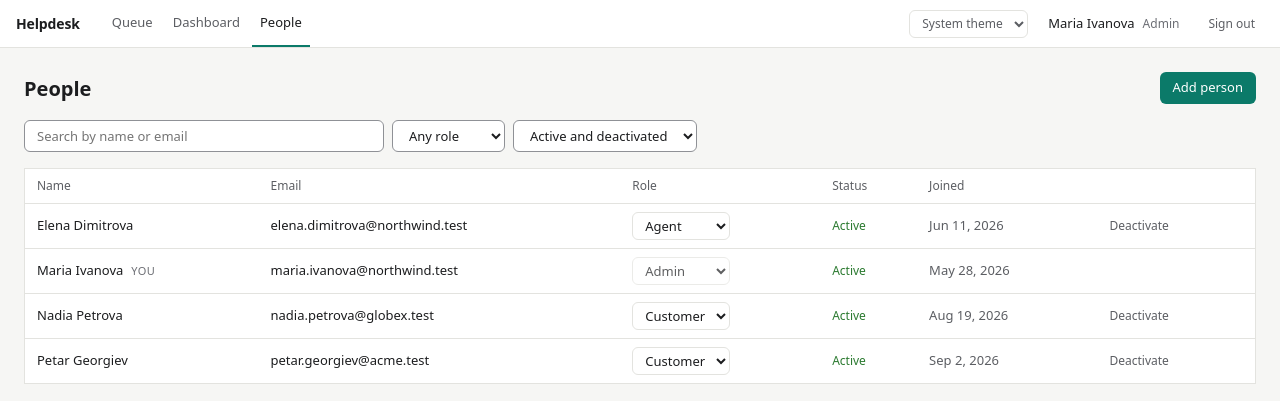
Scenario: the people page › asks before deactivating someone, and can undo it
Expected: the table is shown, left=24, top=168, right=1256, bottom=384
Click the button "Deactivate" in the row of "Elena Dimitrova" at (1139, 226), box left=1100, top=212, right=1178, bottom=240
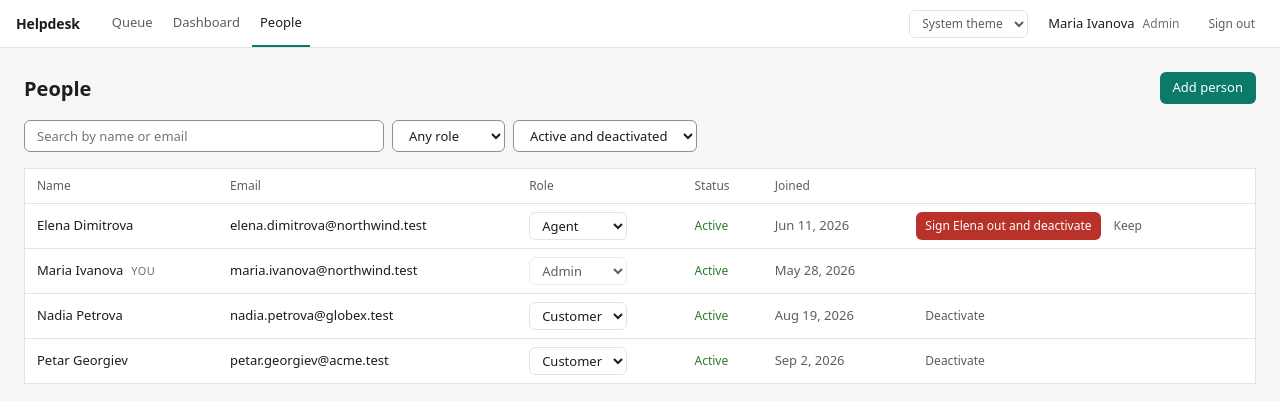
Click the button "Sign Elena out and deactivate" at (1008, 226), box left=916, top=212, right=1101, bottom=240
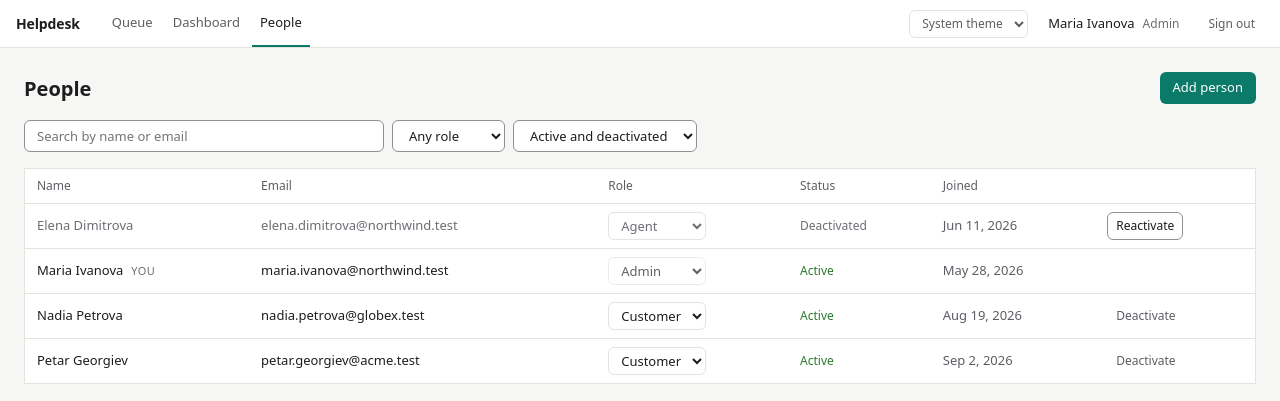
Now the text "Deactivated" is shown, box left=800, top=217, right=867, bottom=234
Click the button "Reactivate" at (1145, 226), box left=1107, top=212, right=1183, bottom=240
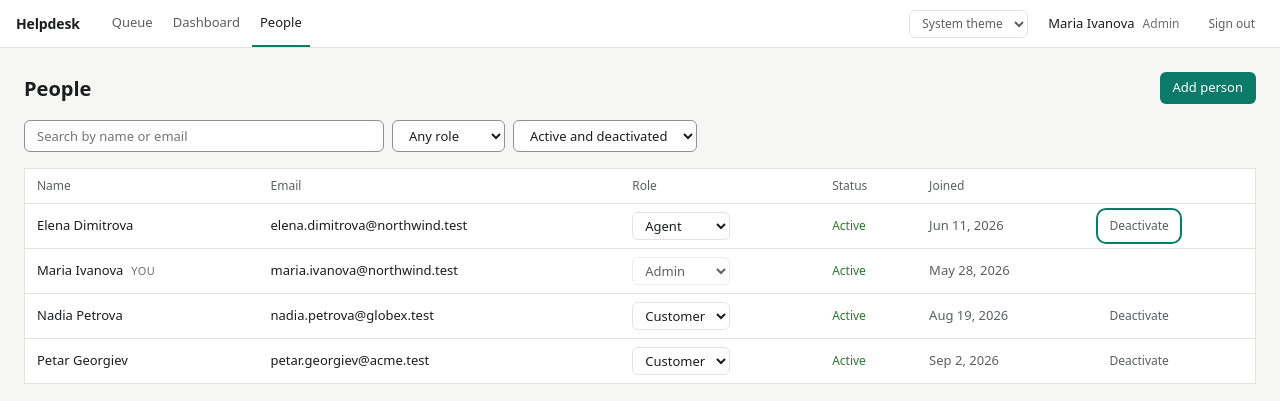
Now the text "Active" in the row of "Elena Dimitrova" is shown, box left=832, top=217, right=866, bottom=234
